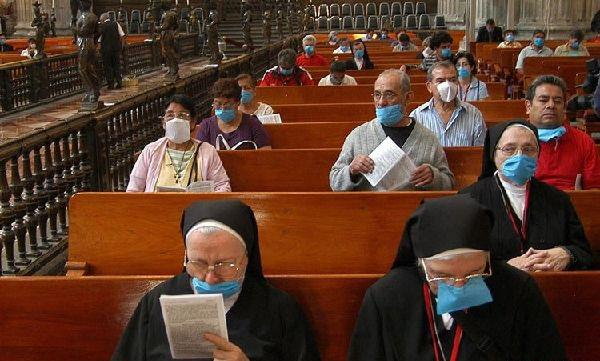OK: (497, 139, 539, 181), (166, 111, 195, 140), (433, 74, 459, 102), (216, 100, 237, 122), (237, 81, 257, 103), (458, 60, 474, 78), (280, 62, 295, 77), (354, 47, 367, 60), (305, 41, 317, 55), (332, 73, 345, 85), (440, 45, 451, 59), (535, 36, 545, 47), (506, 33, 515, 42), (572, 39, 580, 49)
WRONG: (429, 262, 492, 310), (186, 253, 237, 304), (531, 94, 566, 137), (376, 85, 407, 122)
